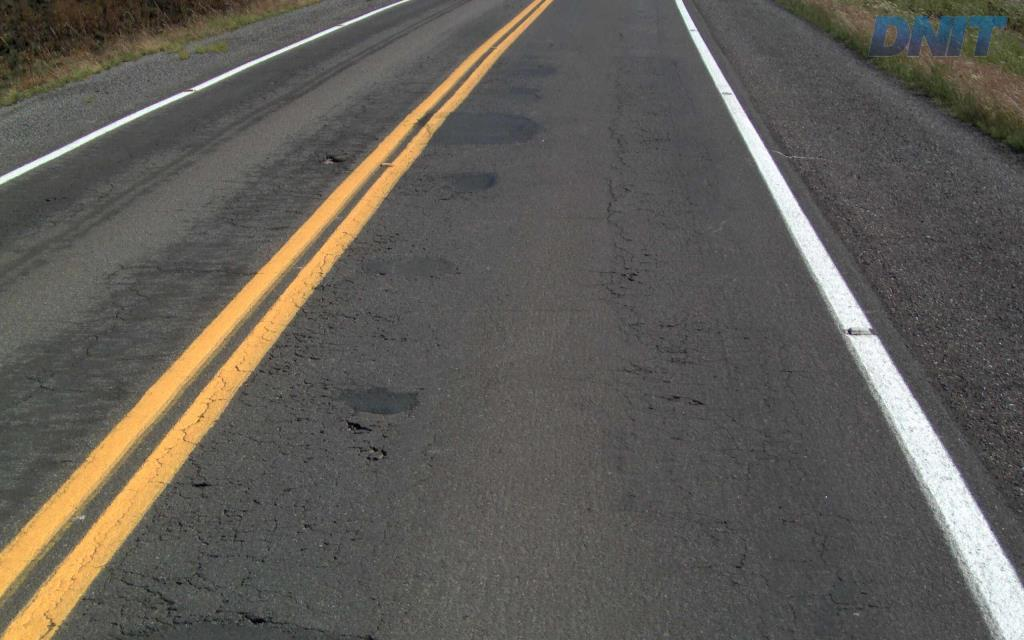crack: (819, 564, 882, 612)
